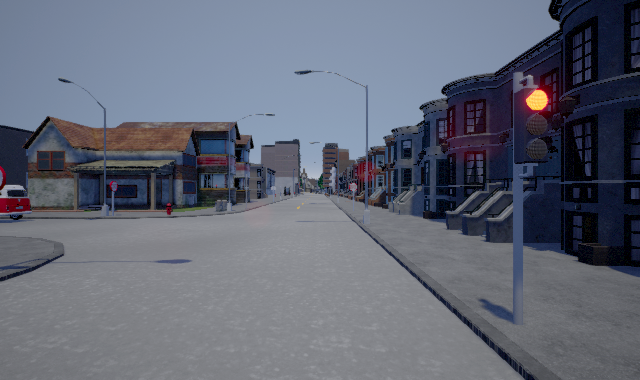traffic_light: (514, 75, 553, 179)
traffic_sign: (1, 166, 6, 191), (349, 182, 358, 192), (110, 181, 118, 192)
vehicle: (1, 185, 32, 220)
